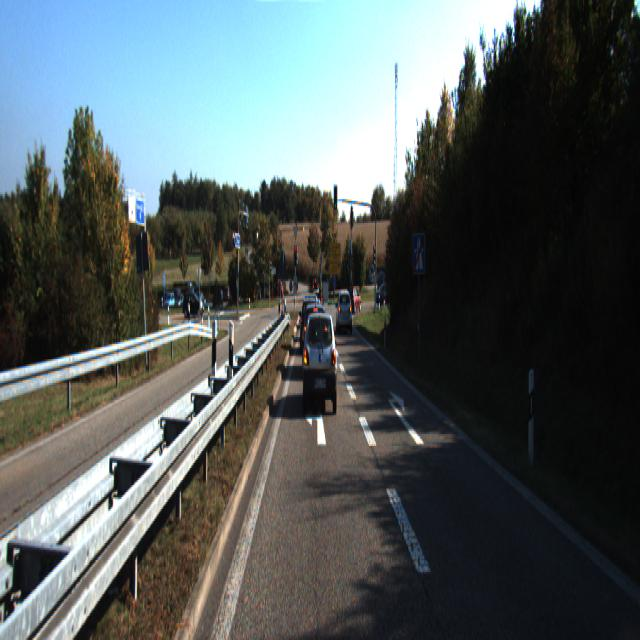Car: (302, 308, 338, 414), (302, 300, 328, 376), (336, 287, 352, 331), (347, 286, 362, 315)
